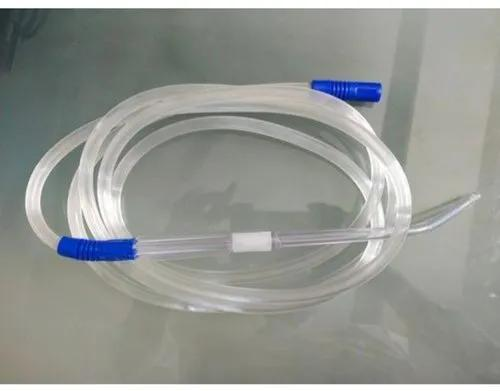Suction Tube Nozzle: (21, 73, 481, 318)
